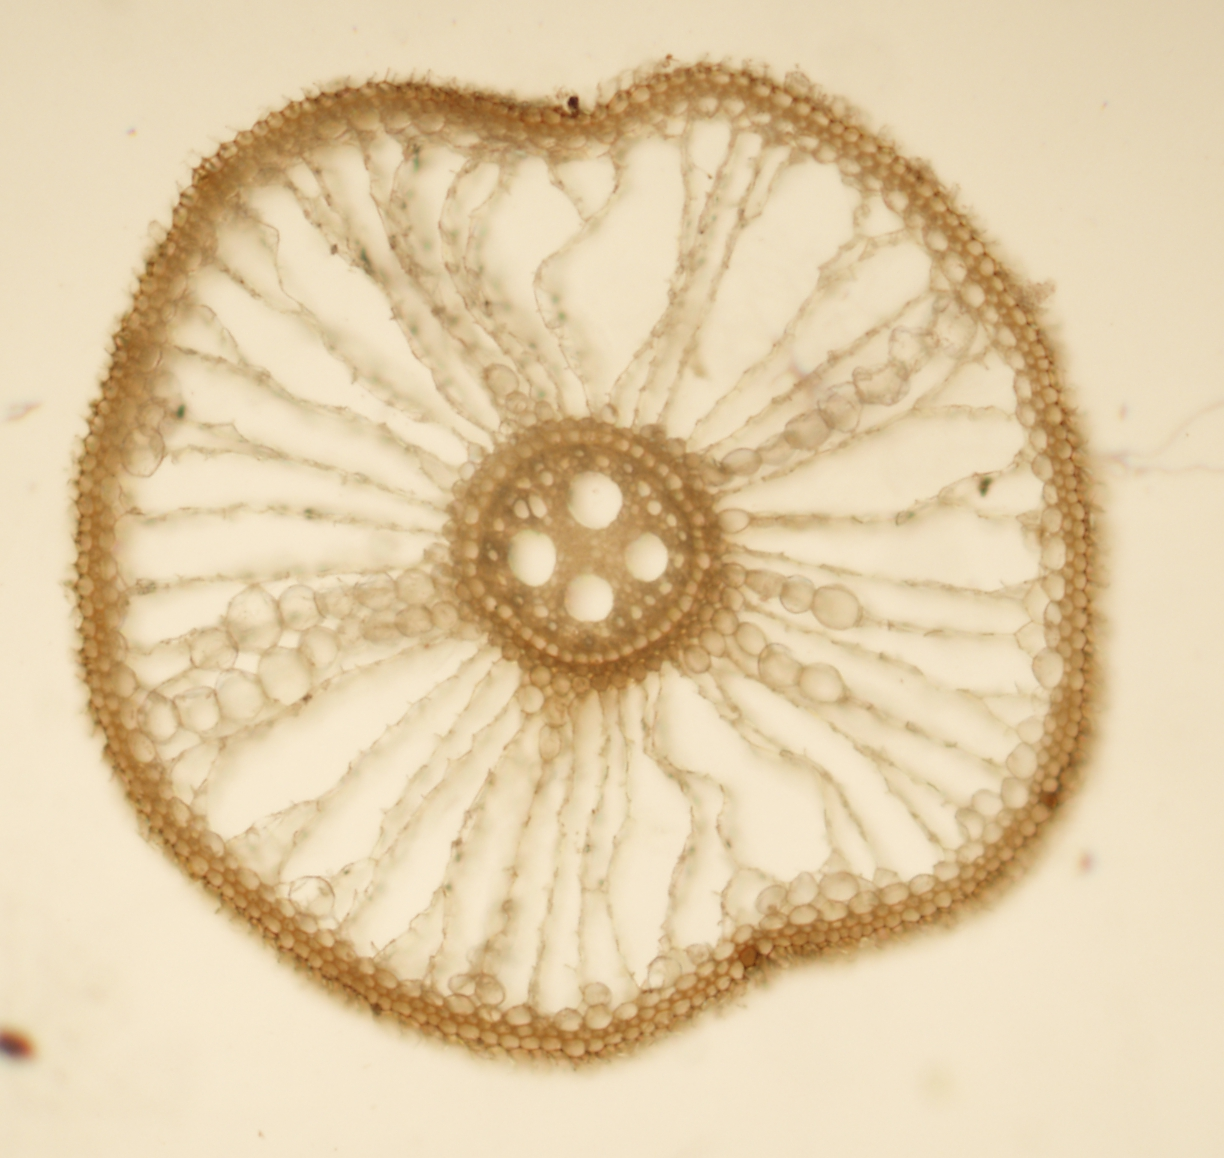lm: (567, 471, 623, 530), (507, 528, 556, 587), (564, 574, 614, 621), (625, 531, 668, 582)
